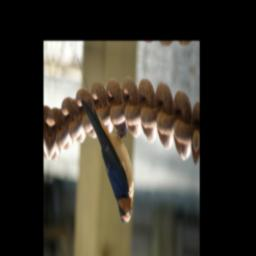Swallow: (68, 52, 140, 225)
